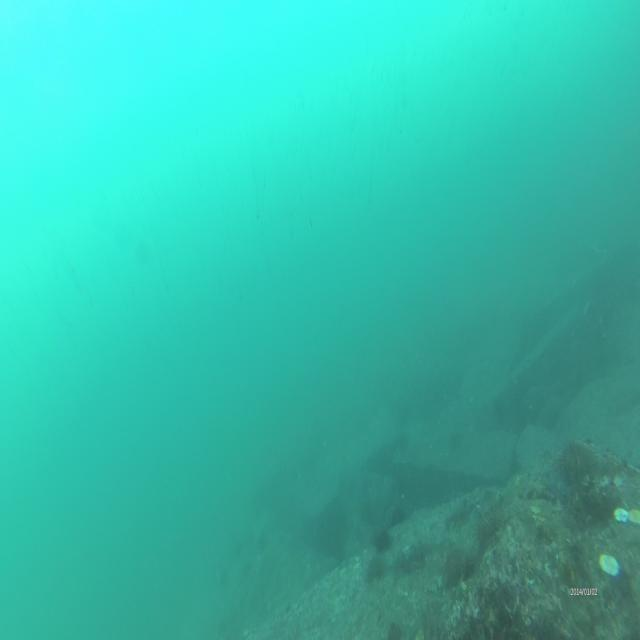echinus: (560, 440, 599, 480), (445, 546, 470, 581), (374, 535, 392, 557), (388, 502, 405, 524)
